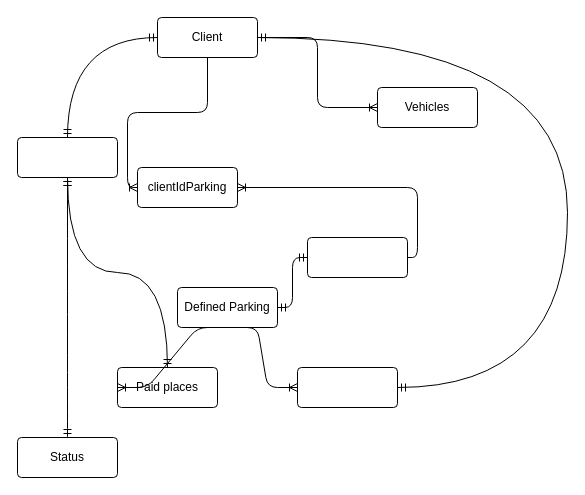
The diagram is 585 pixels wide and 495 high, and some of its shapes have lost their labels. The centre of each missing label's shape, as x and y in pixels:
ClientIdStatus: pixel 67 157
Free places: pixel 347 387
Parking: pixel 357 257
